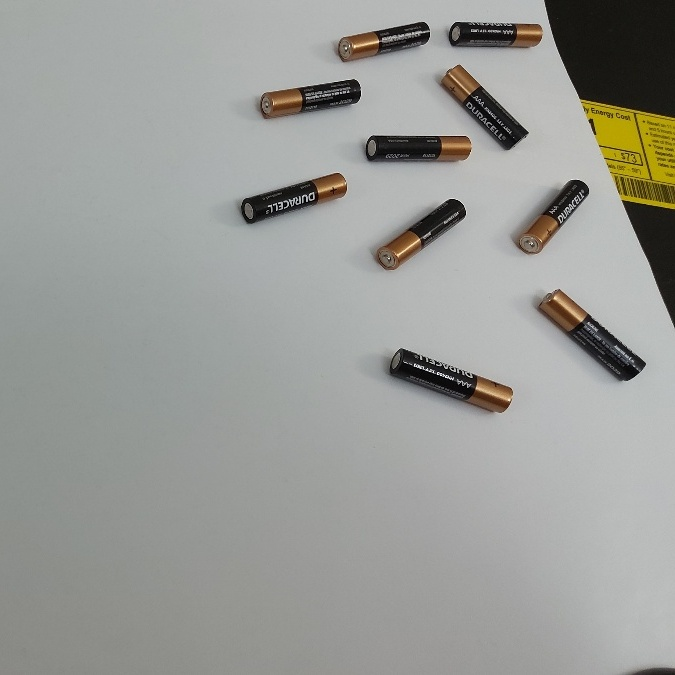battery: (537, 284, 644, 383), (382, 343, 514, 417), (438, 59, 523, 150), (371, 195, 469, 272), (238, 167, 346, 226), (516, 179, 588, 256), (255, 76, 362, 122), (327, 17, 434, 63), (445, 12, 548, 54), (363, 126, 471, 166)
